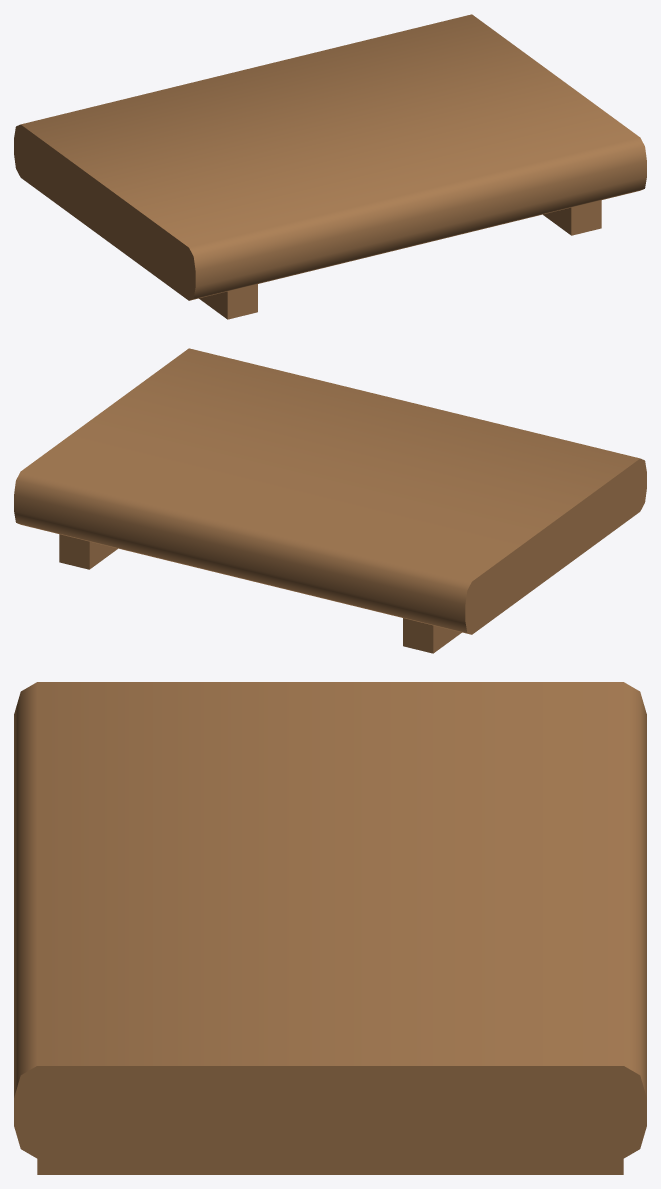
The model's file is quaternius-sushi-restaurant-environment-woodenboard.glb.
3 views of the same model, one above another, from view 1: azimuth 30°, elevation 25°; view 2: azimuth 150°, elevation 25°; view 3: azimuth 270°, elevation 25° (orthographic). The views are drawn at different scales.
Parts seen in each view (by area): view 1: Environment_WoodenBoard; view 2: Environment_WoodenBoard; view 3: Environment_WoodenBoard.
Boxes of the visible parts, left/top/right/bottom form: Environment_WoodenBoard: left=14, top=14, right=646, bottom=319; Environment_WoodenBoard: left=14, top=348, right=646, bottom=653; Environment_WoodenBoard: left=14, top=682, right=646, bottom=1174.
Size of the model in its own units: 0.8254 by 0.1424 by 0.5753.
Materials: 1 (1 with a texture image).
